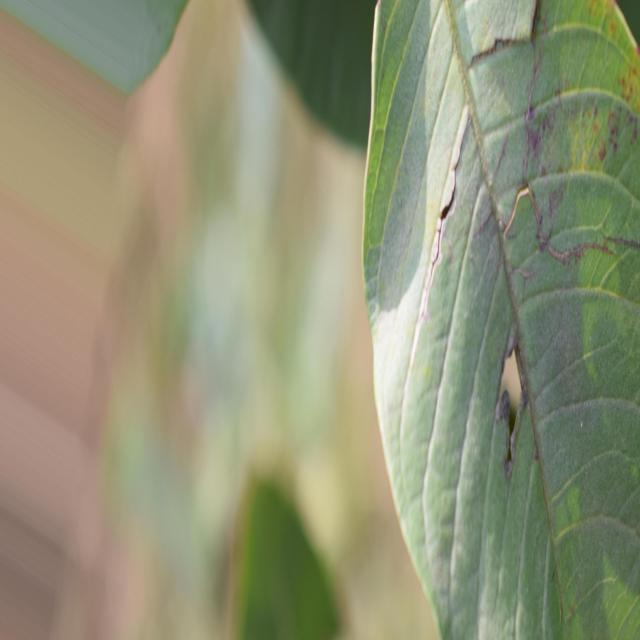Mummification: (364, 0, 640, 639)
